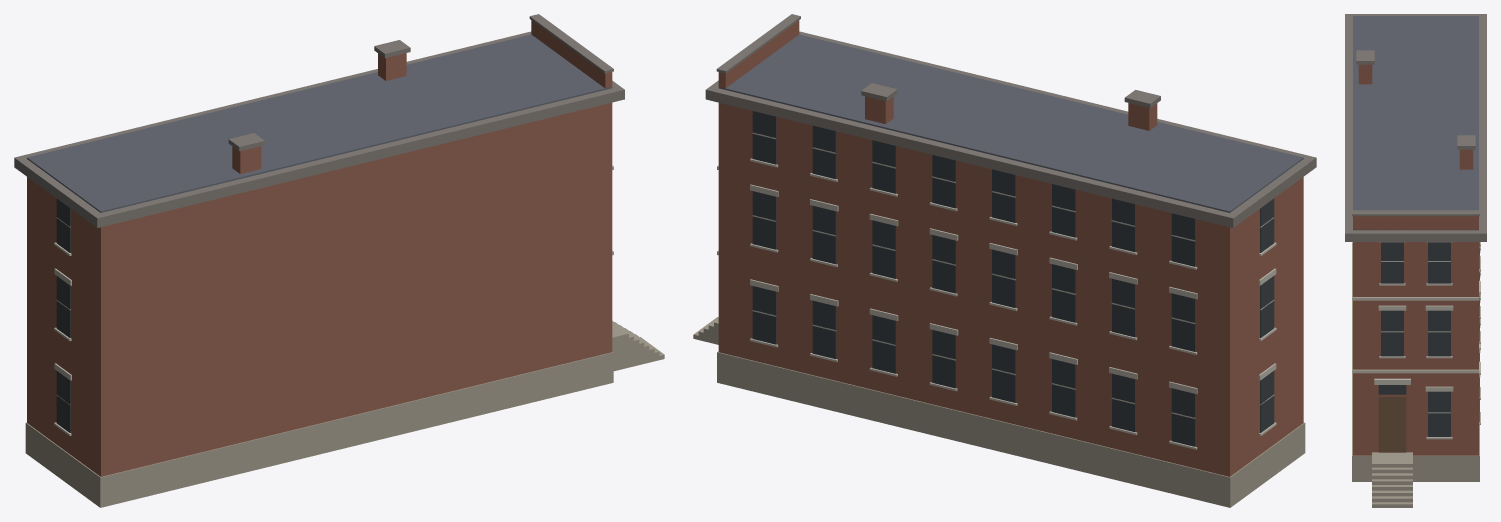
File: house_213_e20th__draft_1904.glb
The picture shows the model from 3 angles, left to right: view 1: azimuth 30°, elevation 25°; view 2: azimuth 150°, elevation 25°; view 3: azimuth 270°, elevation 25°; orthographic projection. The views are drawn at different scales.
Visible parts, largest first — view 1: house_213_e20th__draft_1904; view 2: house_213_e20th__draft_1904; view 3: house_213_e20th__draft_1904.
Part boxes in pixels (<box>): house_213_e20th__draft_1904: <box>14,14,664,507</box>; house_213_e20th__draft_1904: <box>693,14,1316,507</box>; house_213_e20th__draft_1904: <box>1345,14,1486,507</box>.
Bounding box in the file's own units: 25.09 × 13.34 × 6.2.
